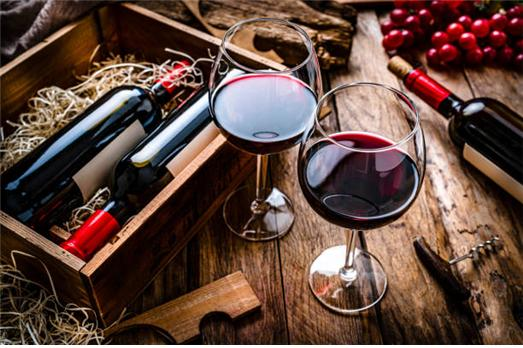alcohol: (58, 64, 244, 262), (0, 60, 194, 238), (295, 80, 427, 314), (209, 18, 321, 241), (388, 56, 523, 216)
